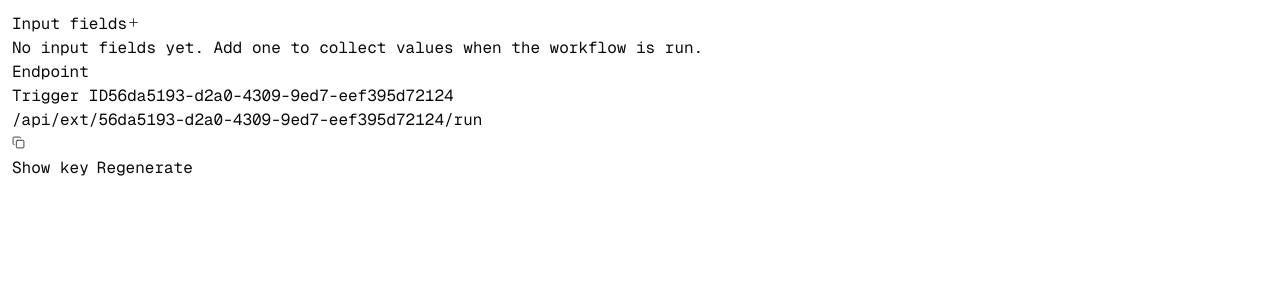
Test case: ExternalTriggerInspector › requires confirmation before rotating and warns that the old key stops working immediately
Step 1. Click the button "Regenerate" → [145, 168], box [97,156,193,180]
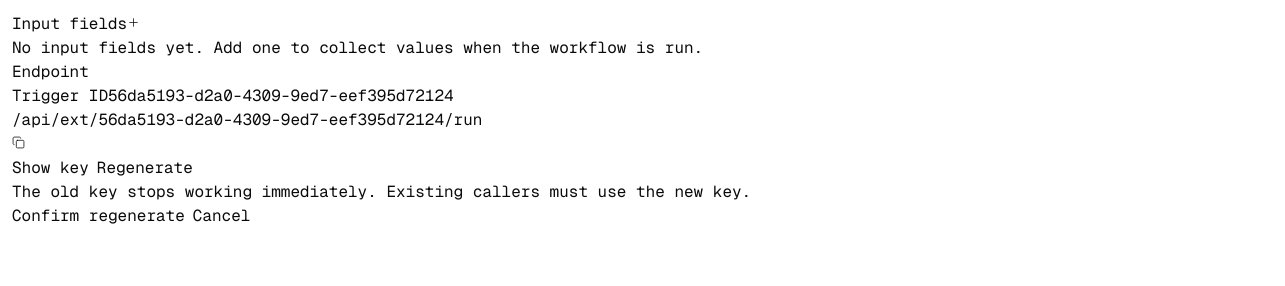
Expected: the text "old key stops working immediately" is shown, [12,181,751,202]
Step 2. Click the button "Cancel" → [222, 216], box [193,204,250,228]
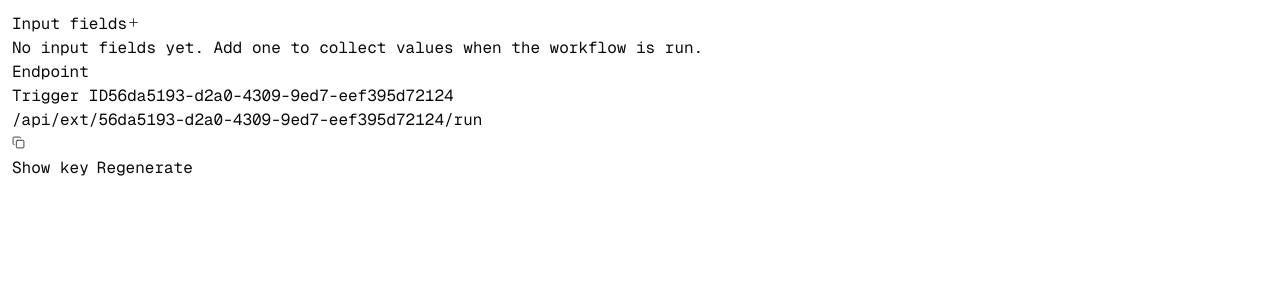
Step 3. Click the button "Regenerate" → [145, 168], box [97,156,193,180]
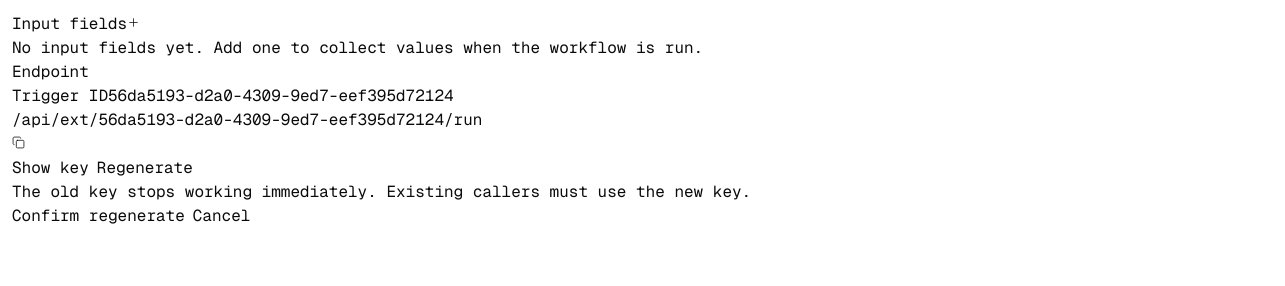
Step 4. Click the button "Confirm regenerate" → [98, 216], box [12,204,185,228]
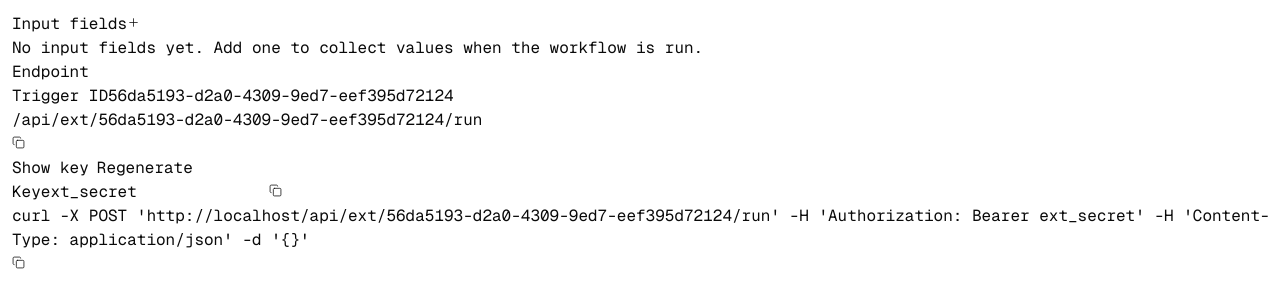
Expected: the field showing "ext_secret" is shown, [41,180,269,204]
